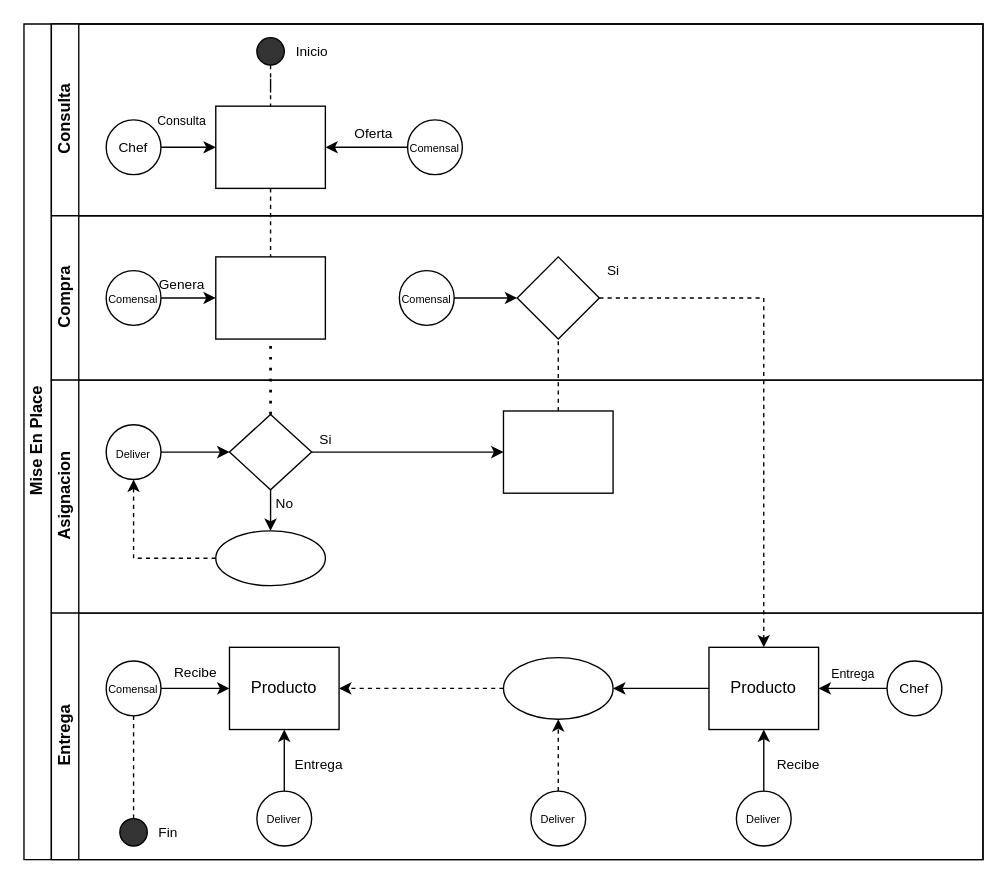
The diagram is 1007 pixels wide and 884 high, and some of its shapes have lost their labels. The centre of each missing label's shape, as x and y in pixels:
Aceptar Pedido: point (270, 451)
Buscar Deliver: point (269, 558)
Factura: point (557, 451)
Pagar: point (557, 297)
Pedido: point (269, 297)
Producto (ingredientes): point (269, 146)
Transporte: point (557, 687)
